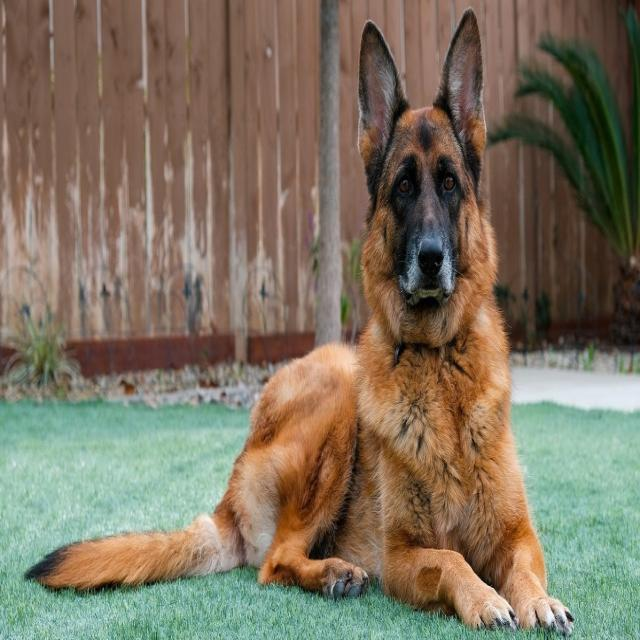GERMAN_SHEPHERD: (22, 0, 577, 640)
